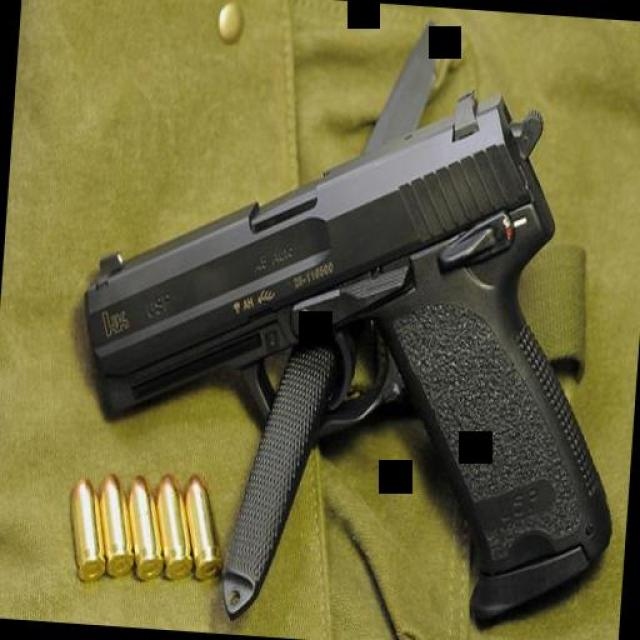gun: (59, 58, 640, 638)
